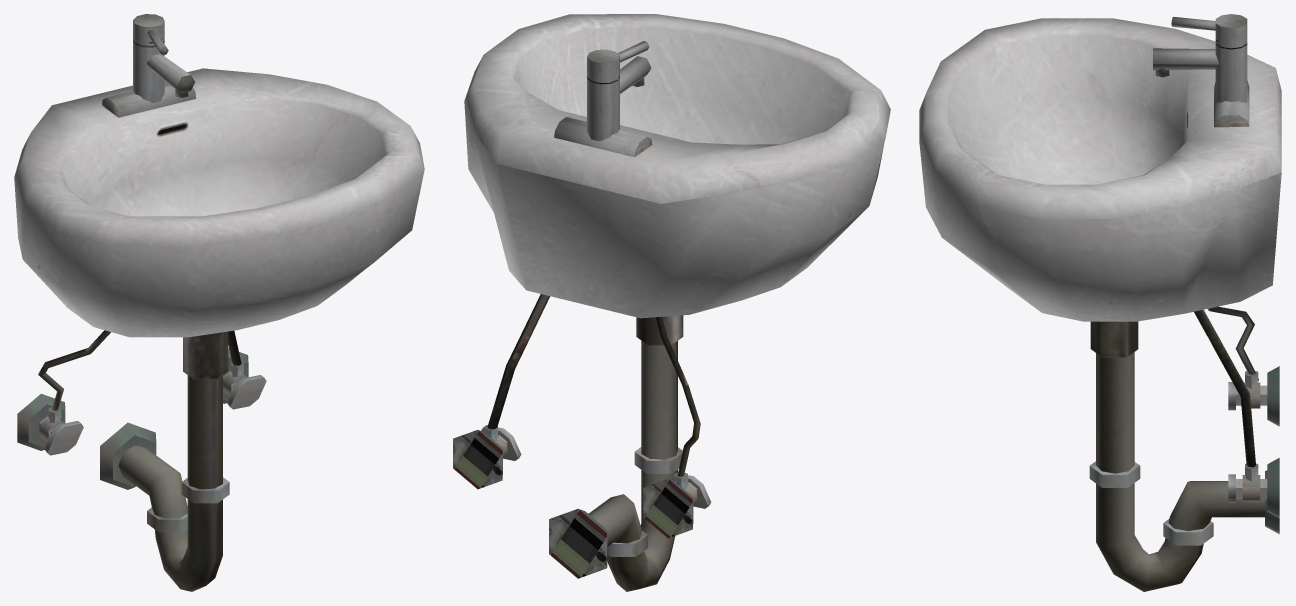
Rendered from bathroom_props_washbasin.fbx.
3 renders of one model, left to right at view 1: azimuth 30°, elevation 25°; view 2: azimuth 150°, elevation 25°; view 3: azimuth 270°, elevation 25°, orthographic. The views are drawn at different scales.
Parts seen in each view (by area): view 1: Box01; view 2: Box01; view 3: Box01.
Part boxes in pixels (x1=…): Box01: x1=14, y1=14, x2=424, y2=591; Box01: x1=453, y1=14, x2=890, y2=591; Box01: x1=919, y1=14, x2=1281, y2=591.
Size of the model in its own units: 0.8318 by 1.19 by 0.6864.
